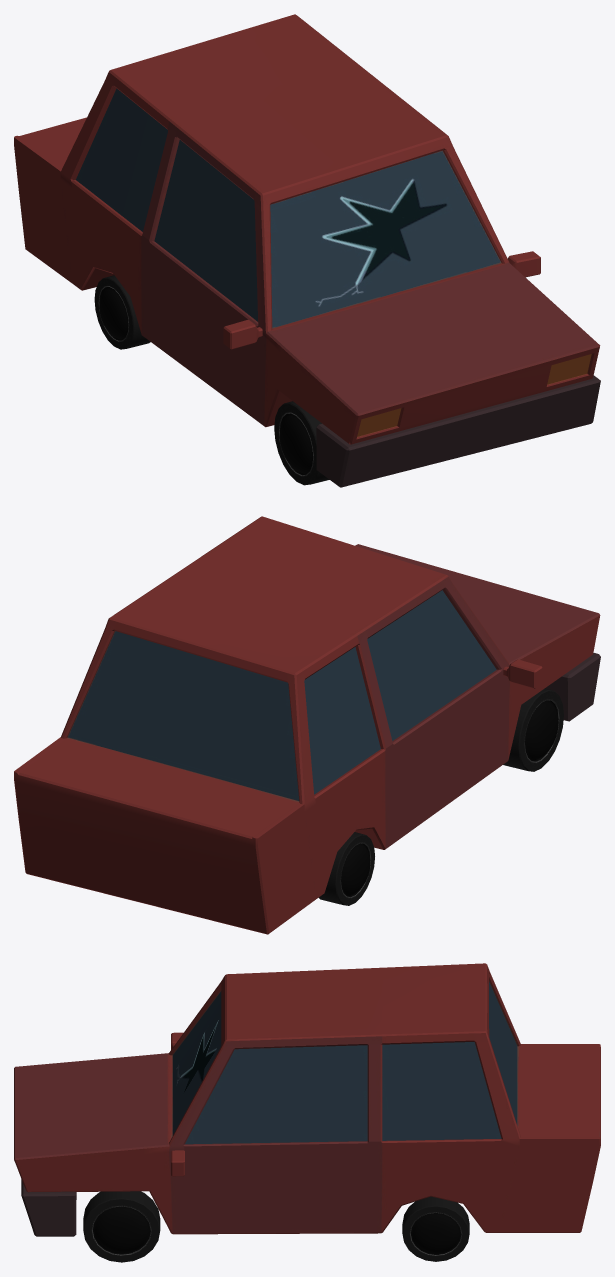
The model's file is Carro_Sedan.fbx.
3 views of the same model, one above another, from view 1: azimuth 30°, elevation 25°; view 2: azimuth 150°, elevation 25°; view 3: azimuth 270°, elevation 25° (orthographic). The views are drawn at different scales.
Parts seen in each view (by area): view 1: Carro_geo11, pCube49, pCylinder4, pCylinder5, pCube50, pCube51; view 2: Carro_geo11, pCylinder4, pCylinder5, pCube49, pCube50; view 3: Carro_geo11, pCylinder7, pCylinder6, pCube49.
Part boxes in pixels (box(x1,y1,x2,y2)): Carro_geo11: box(14, 14, 600, 444); pCube49: box(316, 375, 600, 487); pCylinder4: box(274, 401, 329, 485); pCylinder5: box(94, 275, 150, 349); pCube50: box(223, 320, 262, 349); pCube51: box(508, 251, 540, 277); Carro_geo11: box(14, 516, 600, 934); pCylinder4: box(503, 688, 563, 771); pCylinder5: box(318, 832, 374, 905); pCube49: box(545, 652, 600, 721); pCube50: box(503, 659, 542, 688); Carro_geo11: box(14, 963, 600, 1234); pCylinder7: box(83, 1191, 160, 1262); pCylinder6: box(402, 1196, 469, 1261); pCube49: box(21, 1179, 76, 1236).
Bounding box in the file's own units: 20.7 × 16.37 × 39.69.
